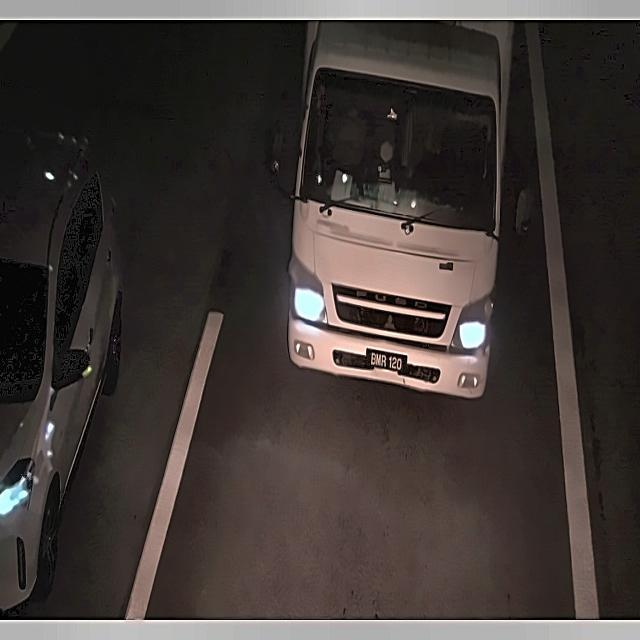car: (360, 342, 418, 378)
